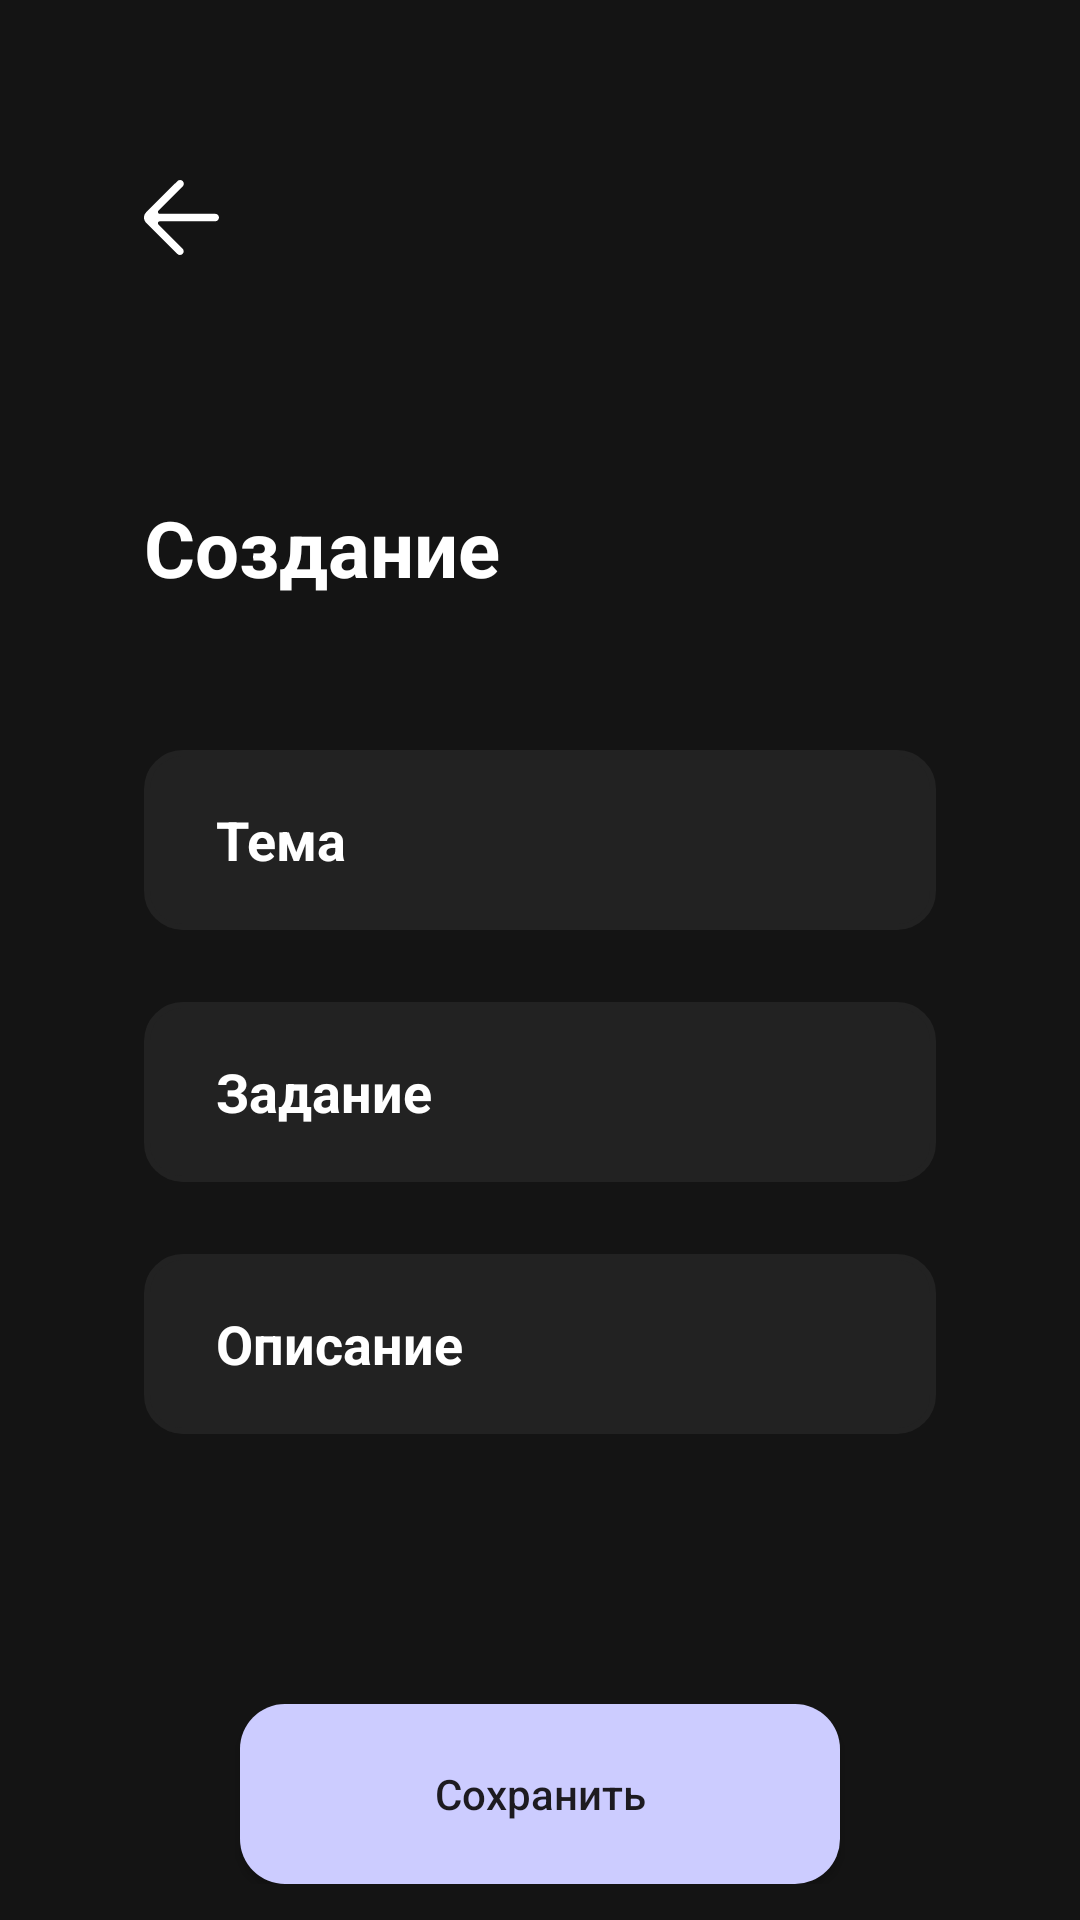

Screen size 1080 × 1920. Icon name, then its center in pixels as [x,y]:
arrow left: [181,217]
